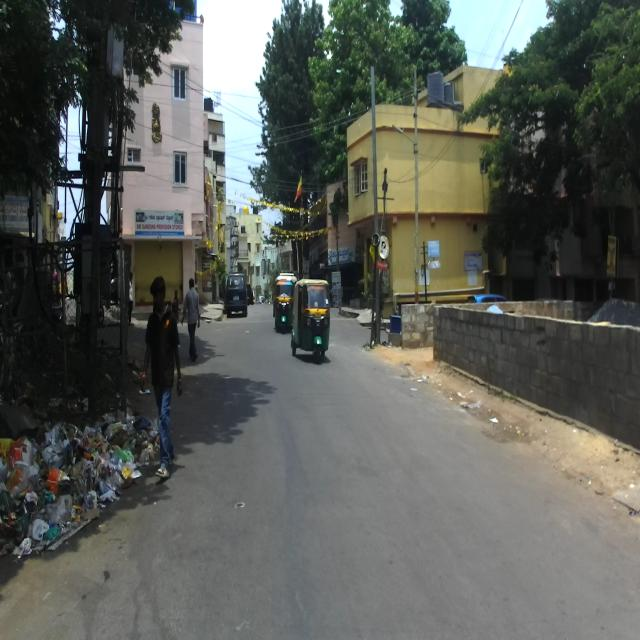auto ahead at: (288, 275, 335, 365)
electric pole ahead at: (64, 11, 130, 378)
person ahead at: (142, 277, 184, 472)
